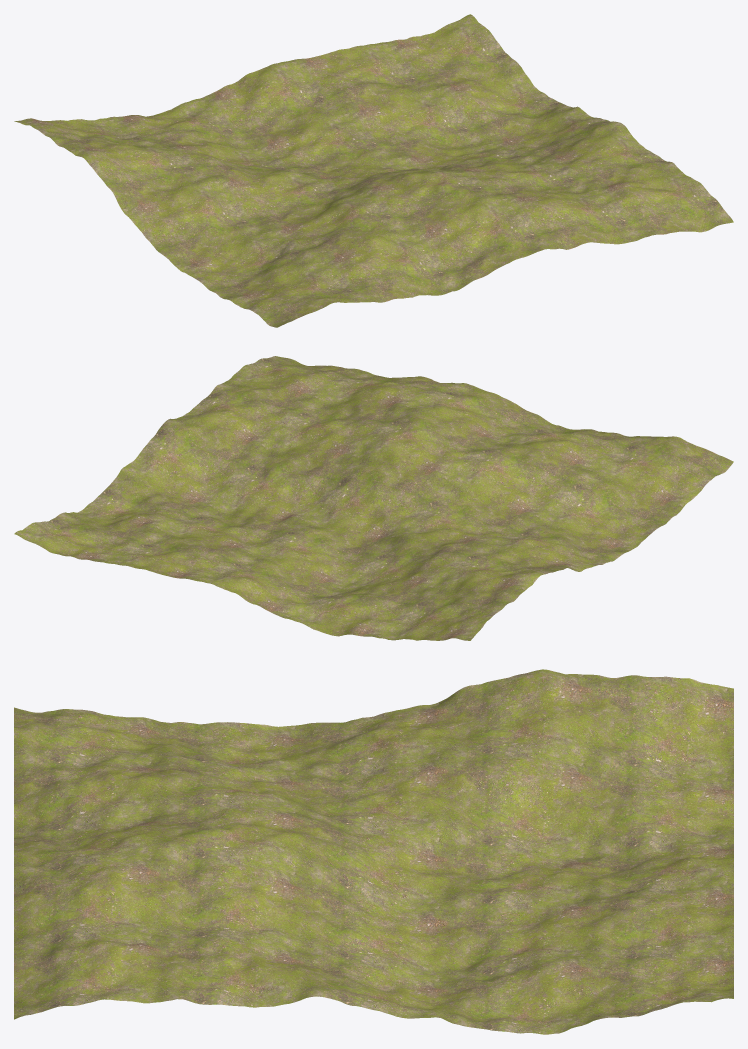
The model's file is hill.glb.
3 views of the same model, one above another, from view 1: azimuth 30°, elevation 25°; view 2: azimuth 150°, elevation 25°; view 3: azimuth 270°, elevation 25° (orthographic). The views are drawn at different scales.
Visible parts, largest first — view 1: Plane; view 2: Plane; view 3: Plane.
Part boxes in pixels (box(x1,y1,x2,y2)): Plane: box(14, 14, 733, 327); Plane: box(14, 356, 733, 640); Plane: box(14, 669, 733, 1034).
Size of the model in its own units: 80 by 8.67 by 80.
Materials: 1 (1 with a texture image).
